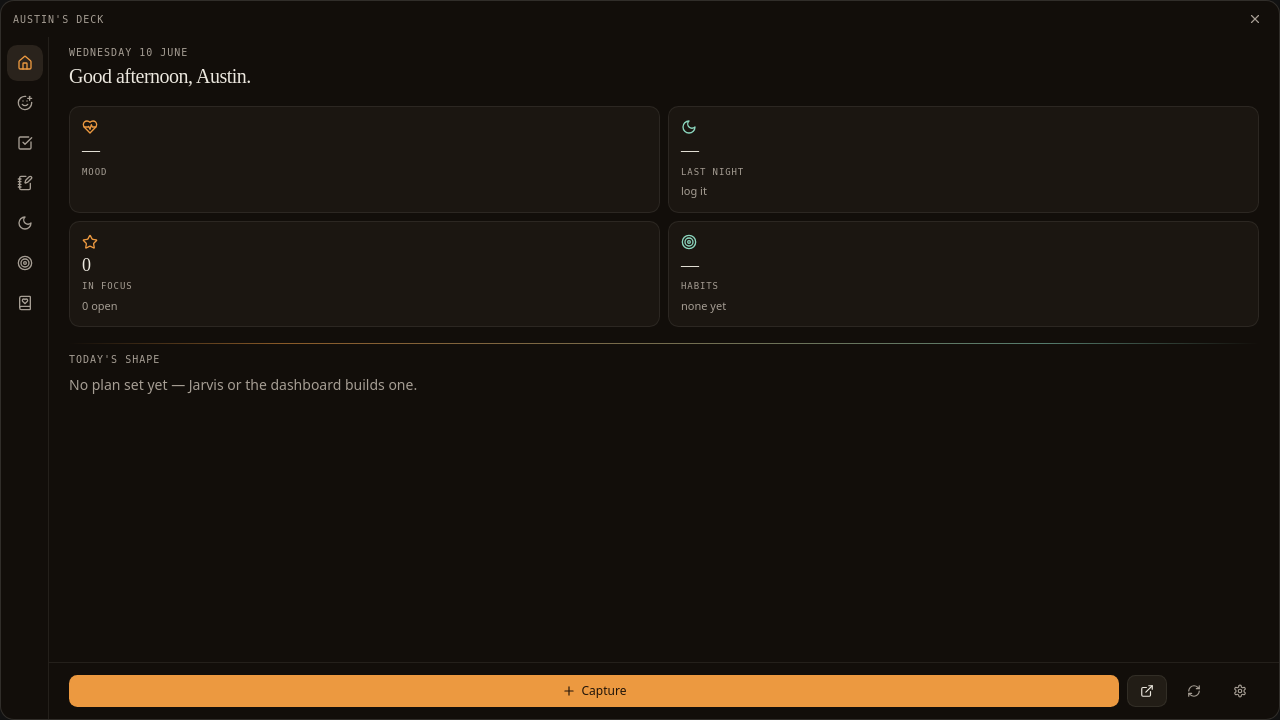
Test: Deck › renders the Tasks section when Tasks is selected
The width and height of the screenshot is (1280, 720).
Click the button named "Tasks".
click(24, 143)  # box [6,125,42,161]
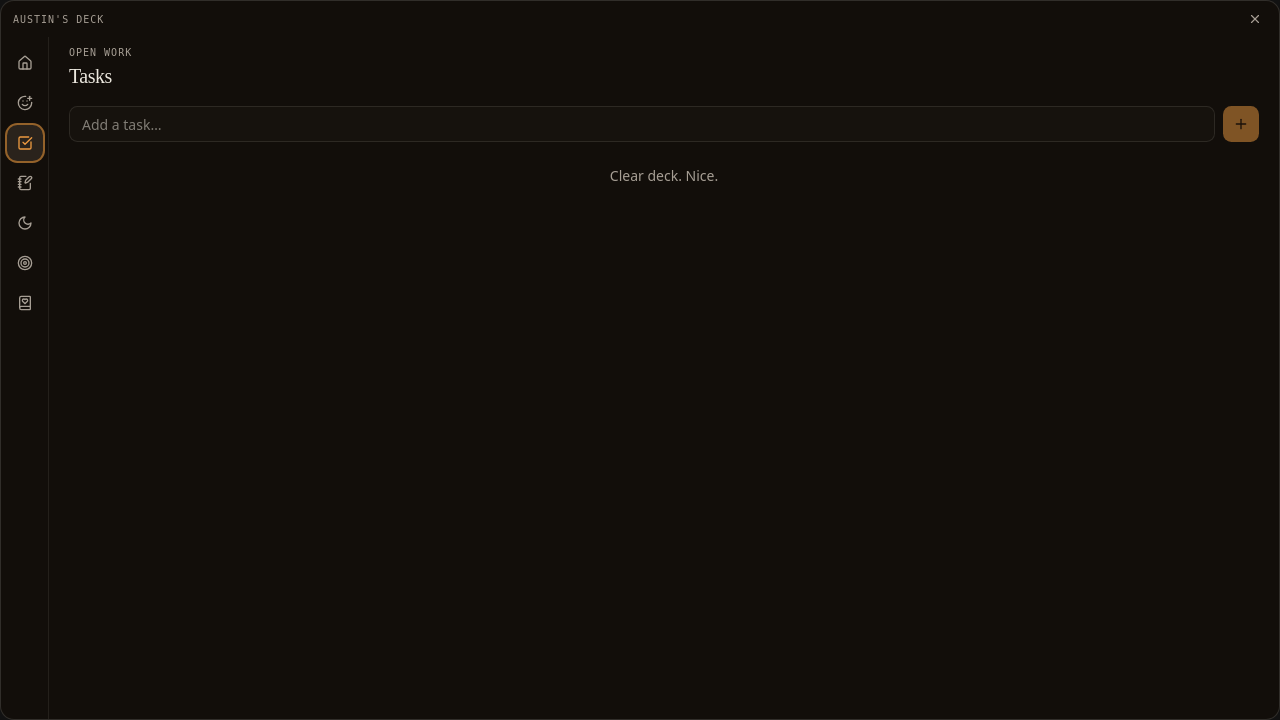
Expected: the heading "Tasks" is shown, [69,65,112,87]
